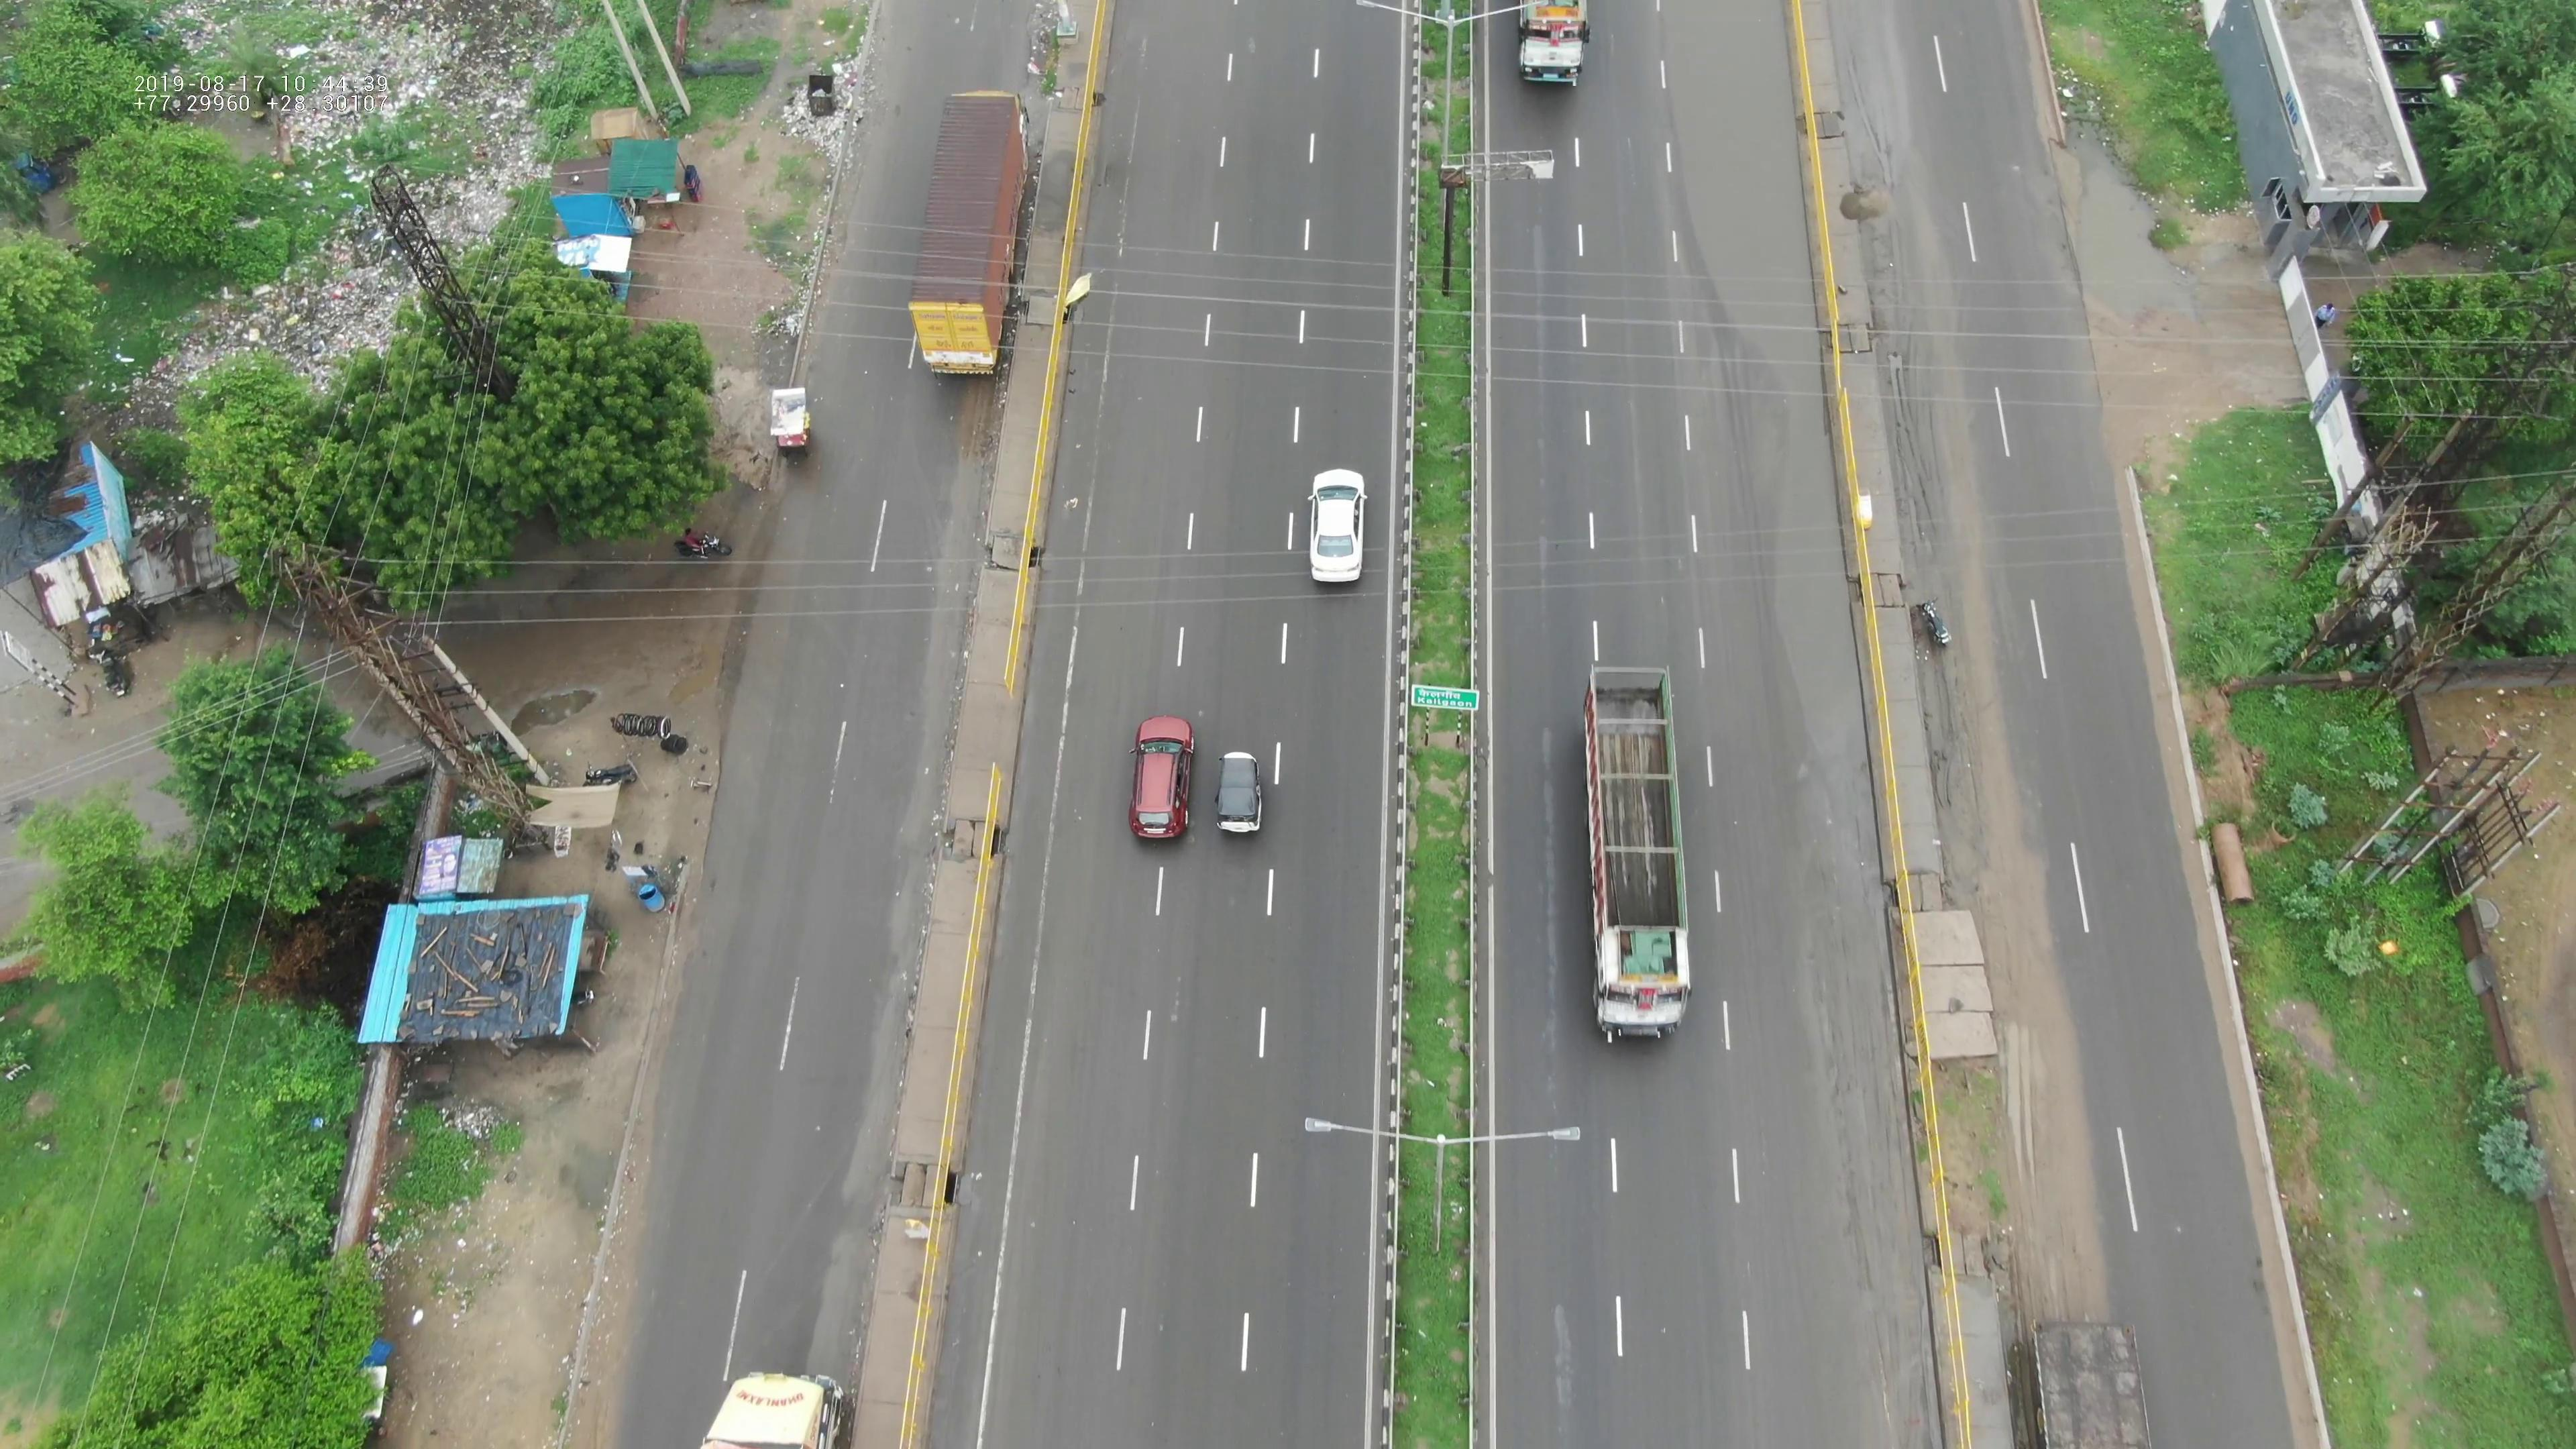Road_side_garbage: (773, 44, 888, 182)
Waterlogging: (1969, 863, 2104, 1297)
